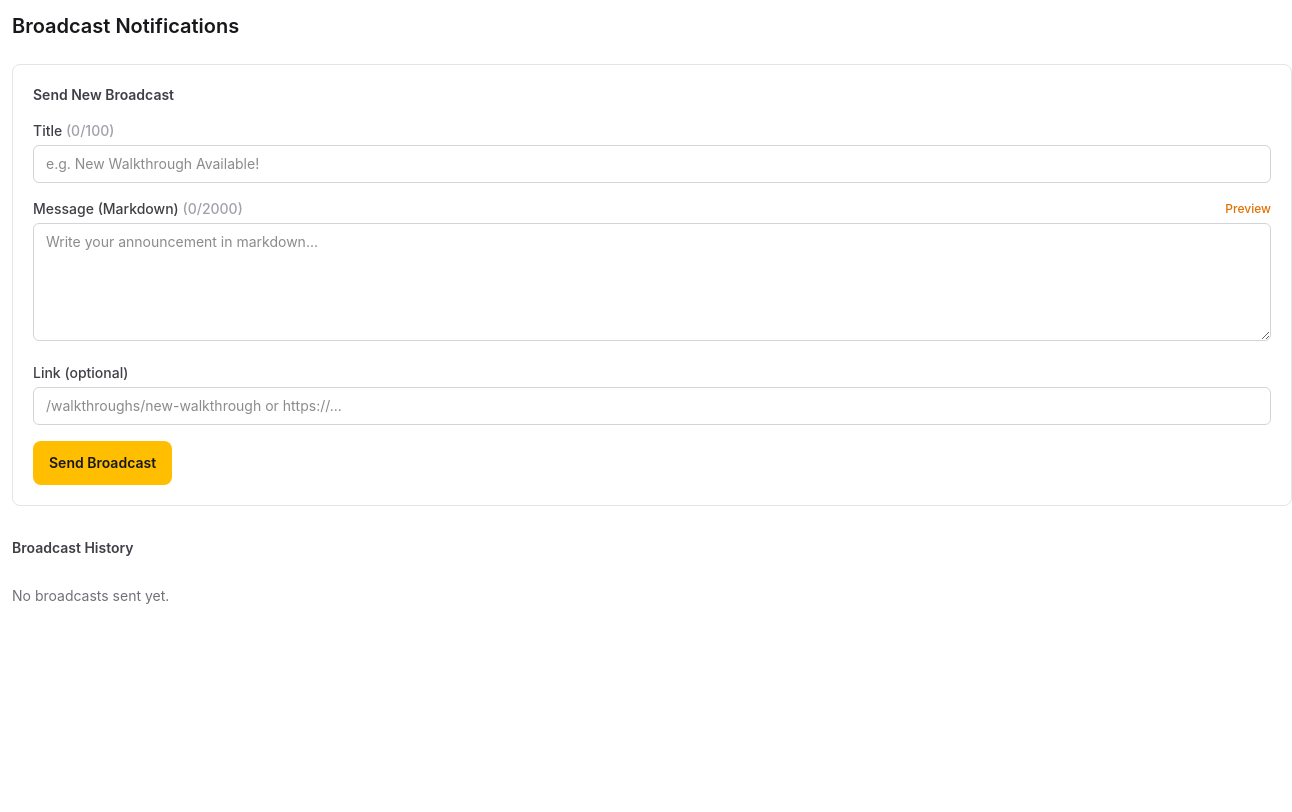
Test case: requires confirmation and sends a broadcast
expect the text "No broadcasts sent yet." is shown: met, box [12,587,169,604]
Type "Big News" into the field labelled "Title (0/100)" at {"x": 652, "y": 164}, box [33,145,1271,183]
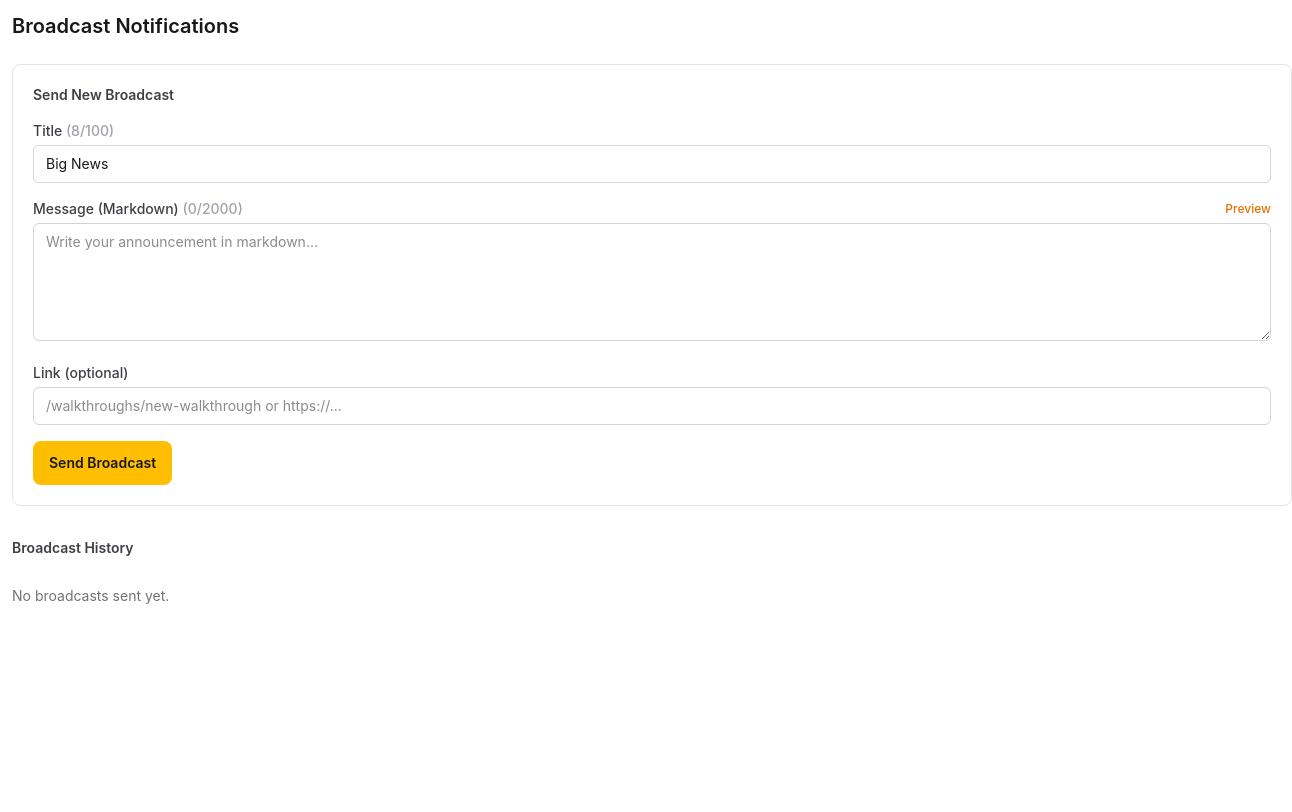
Type "Something happened" into the text box labelled "Message (Markdown) (0/2000)" at {"x": 652, "y": 282}, box [33,223,1271,341]
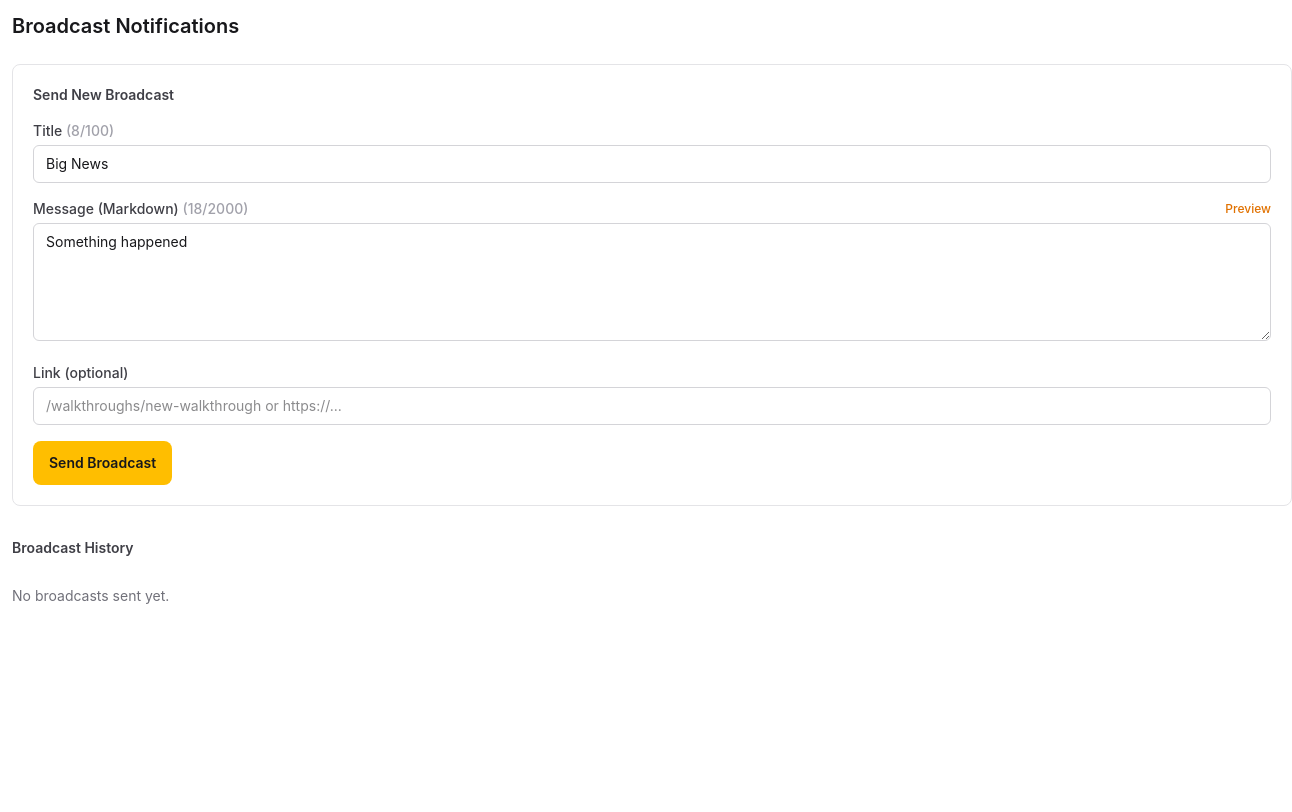
Click the button "Send Broadcast" at {"x": 103, "y": 463}, box [33,441,172,485]
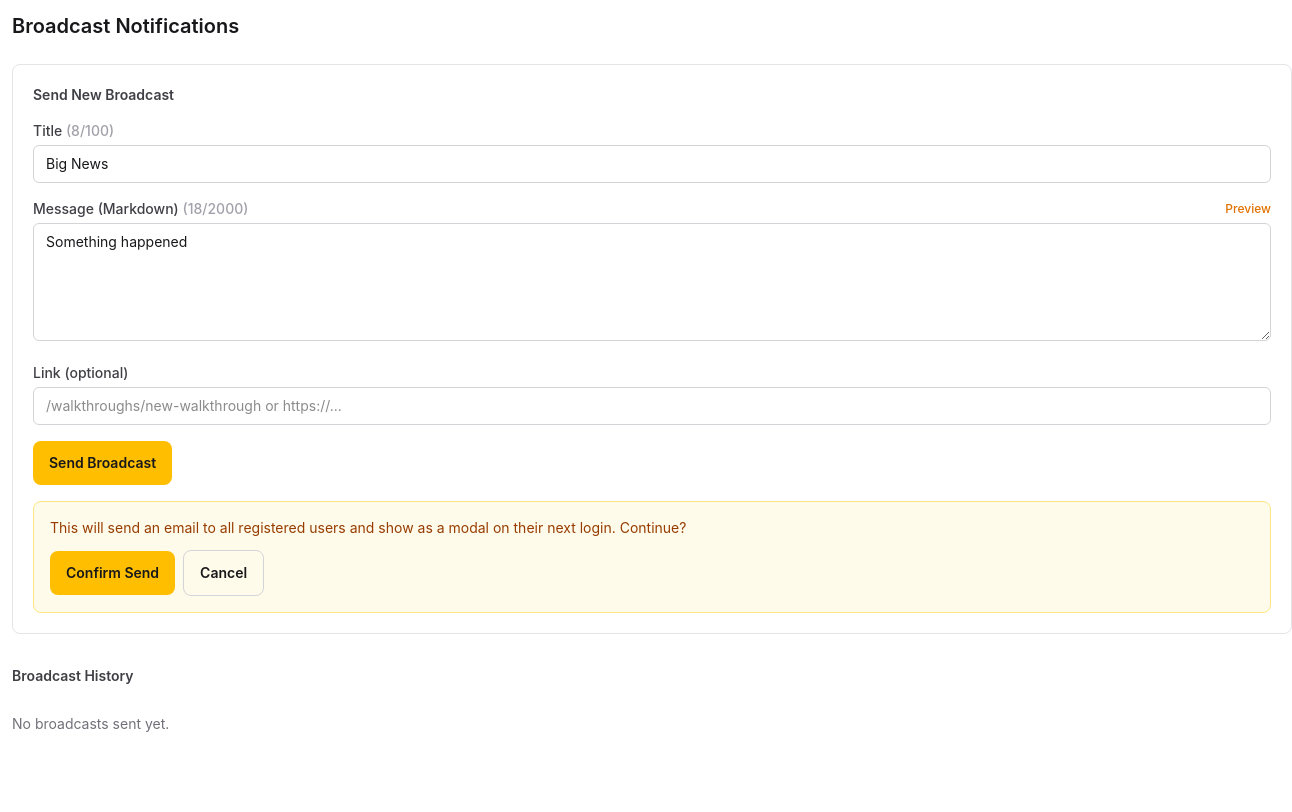
expect the text "send an email to all registered users" is shown: met, box [50,519,686,536]
Click the button "Confirm Send" at {"x": 113, "y": 573}, box [50,551,175,595]
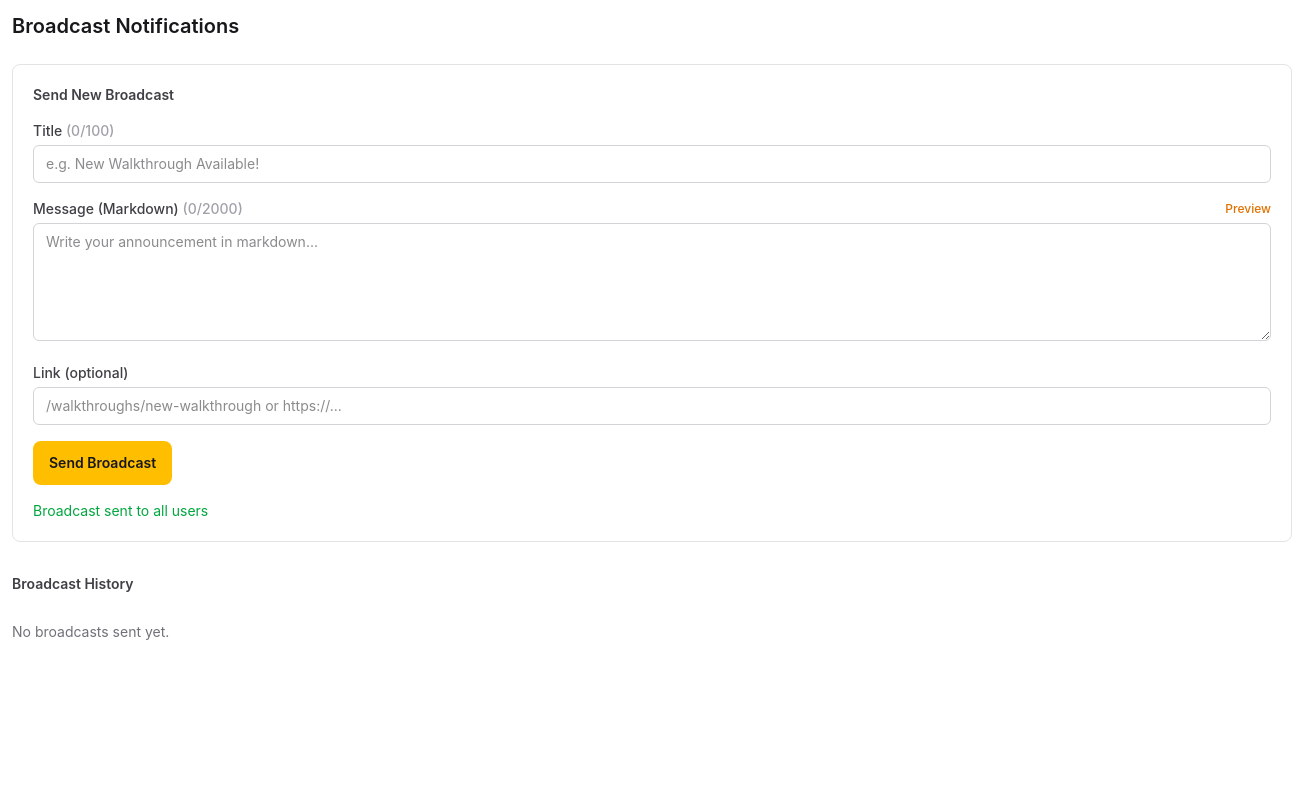
expect the text "Broadcast sent to all users" is shown: met, box [33,502,208,519]
